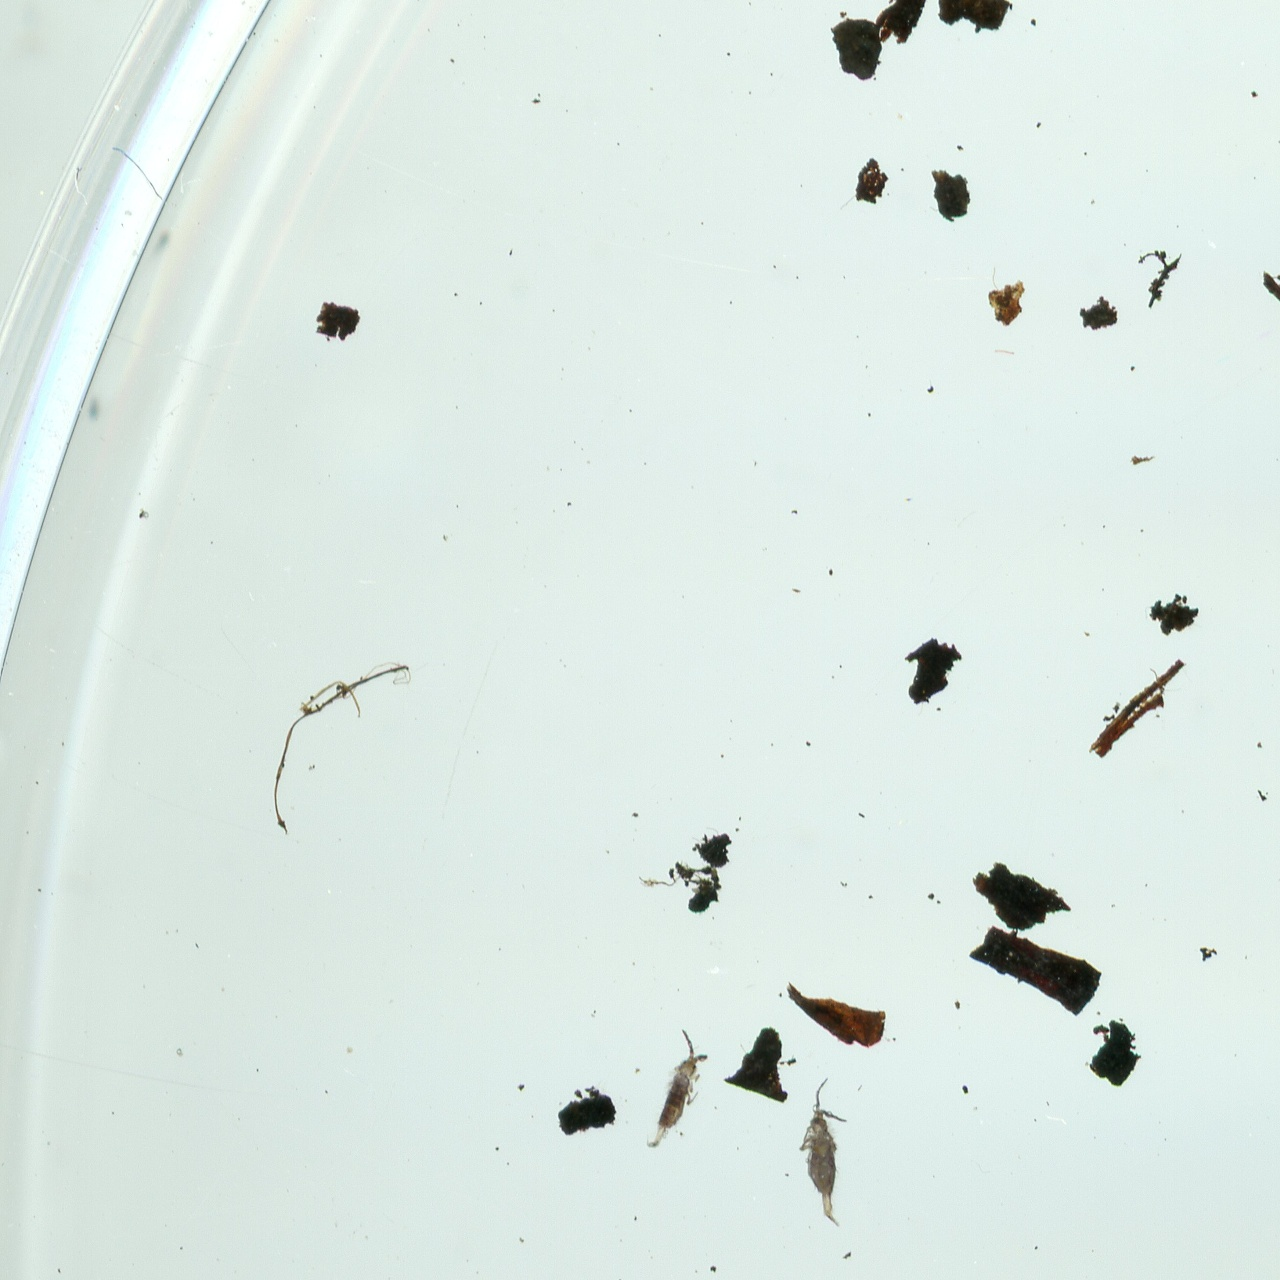arthropod: (798, 1074, 850, 1241), (646, 1027, 710, 1150)
